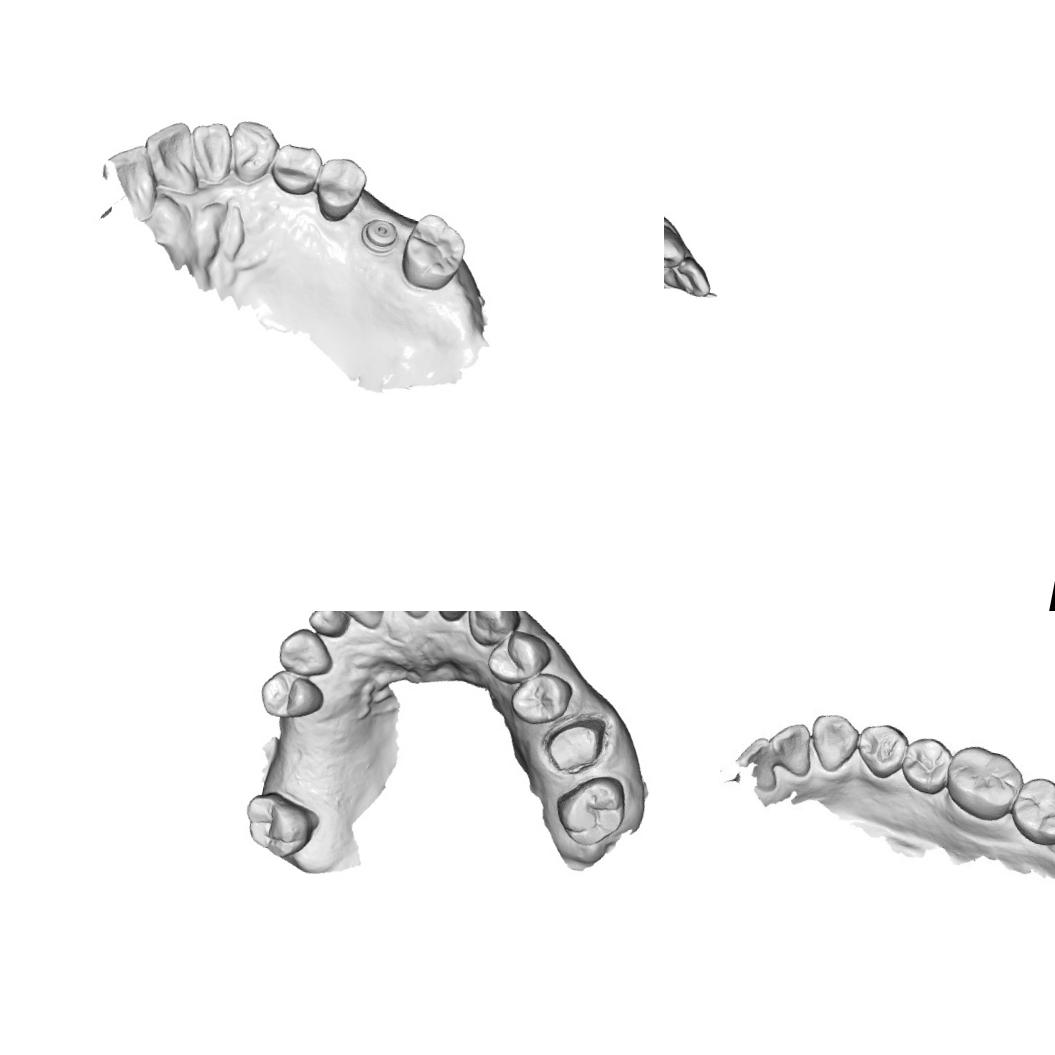canine: (220, 114, 283, 190), (483, 625, 555, 691), (274, 623, 338, 681), (807, 710, 864, 774), (664, 219, 692, 274)
crown: (538, 708, 610, 780)
implant: (355, 211, 405, 257)
incisor: (90, 135, 168, 223), (134, 113, 205, 197), (179, 114, 238, 190), (664, 248, 716, 300), (769, 722, 818, 776), (461, 611, 524, 651), (304, 611, 352, 640), (323, 611, 390, 631), (421, 611, 479, 626)
molar: (395, 205, 472, 297), (550, 766, 630, 852), (943, 742, 1024, 824), (238, 786, 322, 863), (1009, 770, 1055, 850)
premolar: (308, 151, 372, 228), (506, 666, 575, 730), (256, 665, 328, 724), (900, 731, 960, 800), (266, 136, 324, 200), (852, 718, 908, 783)
